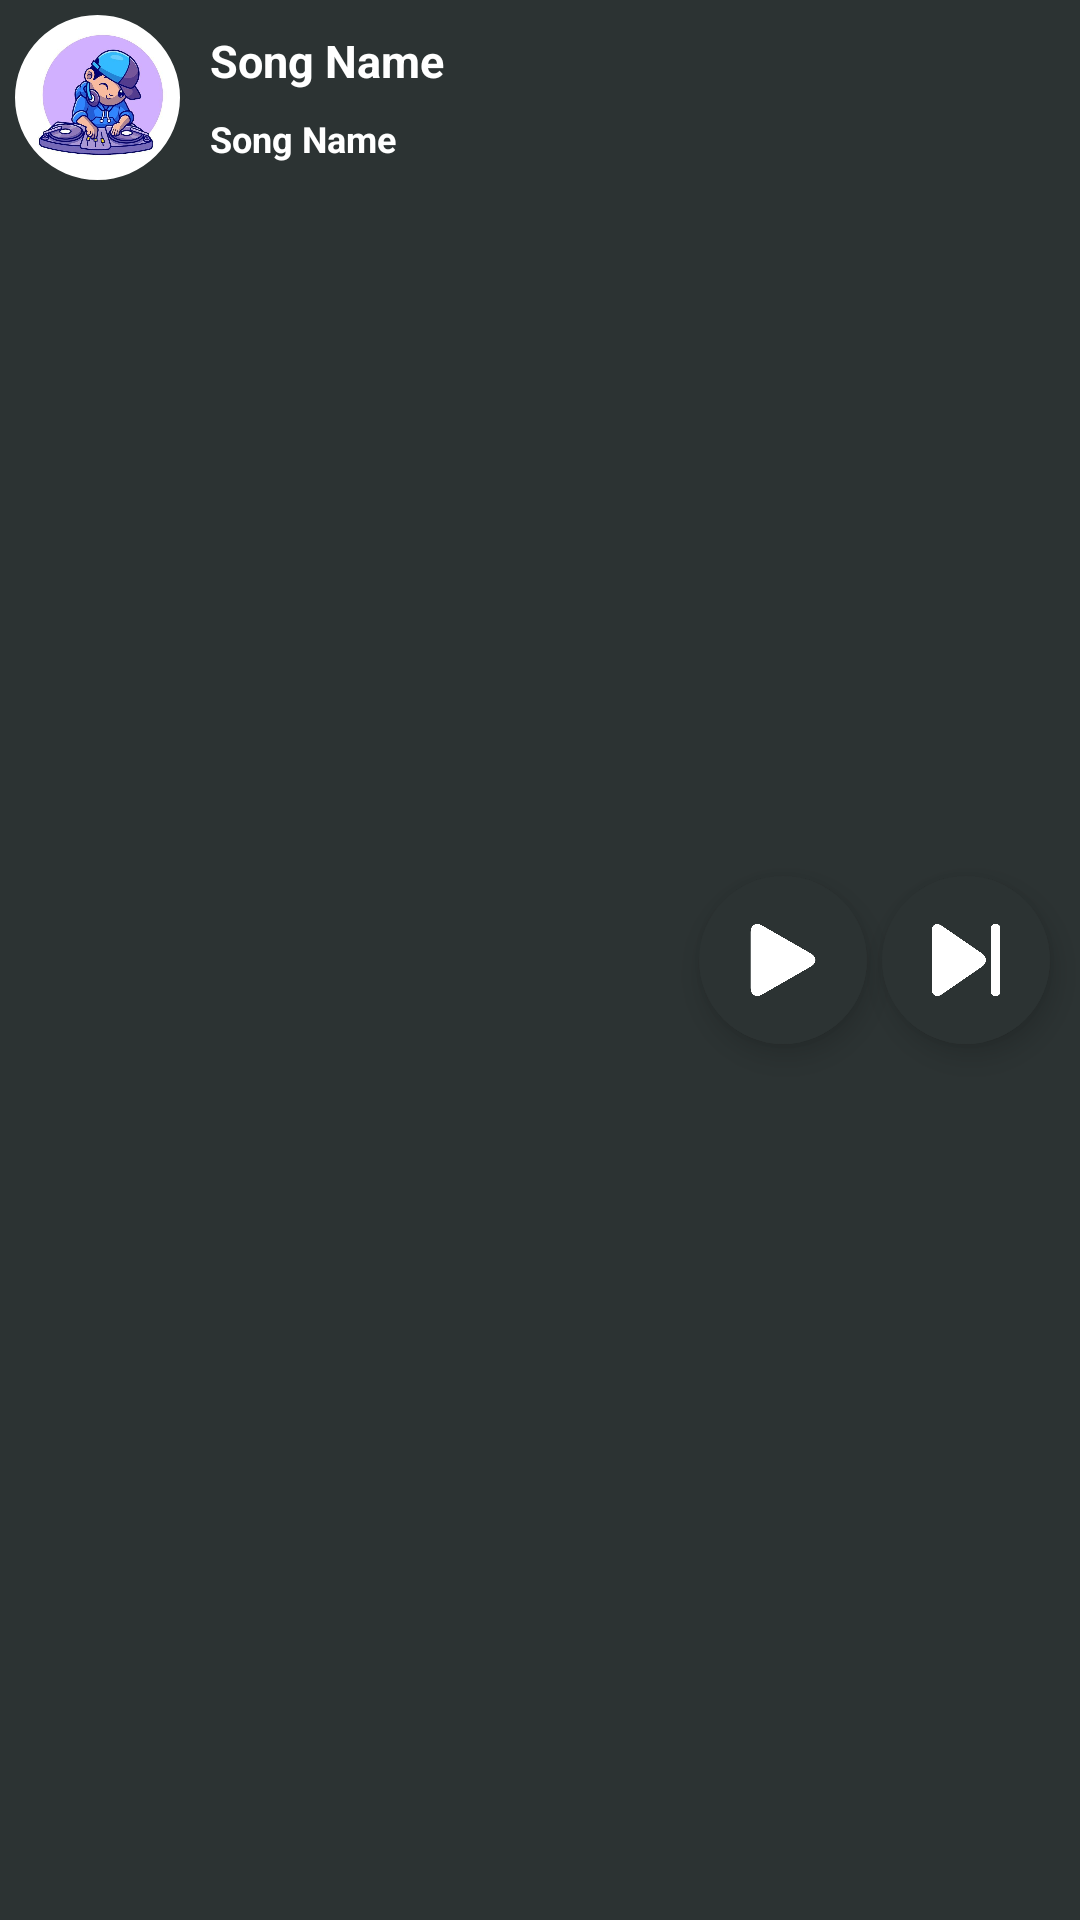

Icon bounding boxes for this 1080x1920 phone screenshot, format (x1, y1, x2, y2):
next: (932, 924, 1000, 996)
play: (750, 924, 816, 996)
